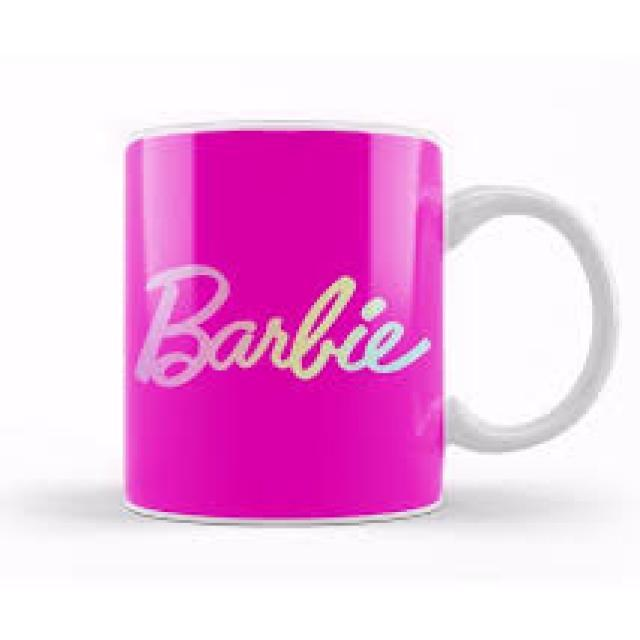taza: (122, 117, 620, 530)
